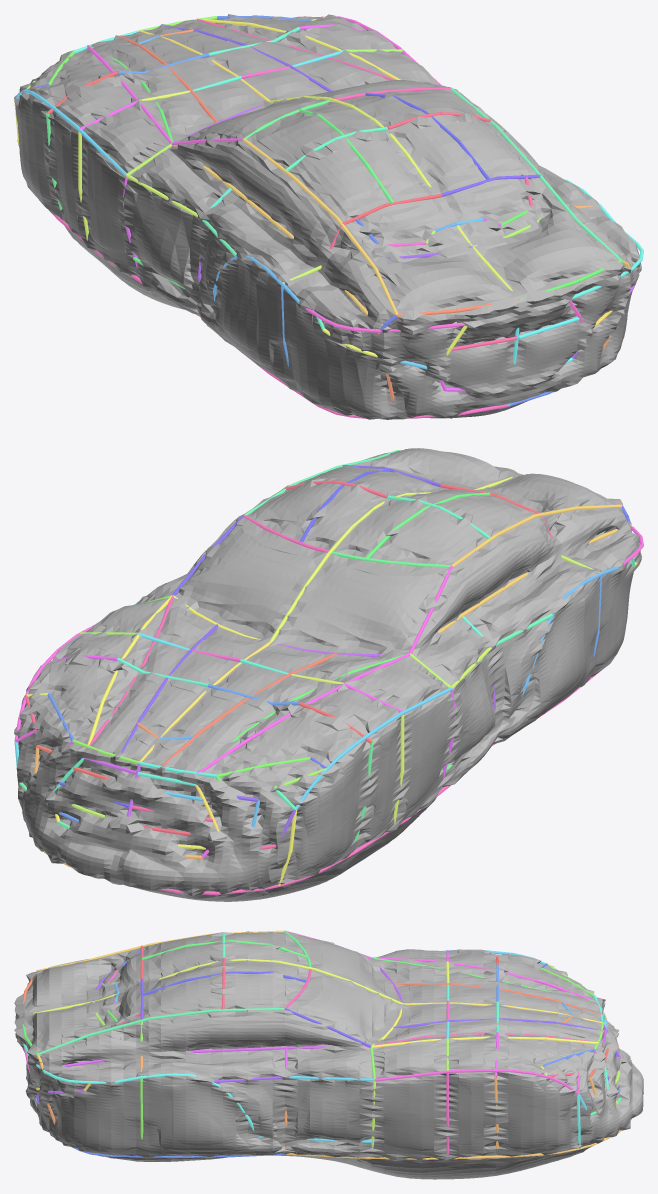
File: ils_car5.gltf
3 renders of one model, top to bottom at view 1: azimuth 30°, elevation 25°; view 2: azimuth 150°, elevation 25°; view 3: azimuth 270°, elevation 25°, orthographic. The views are drawn at different scales.
Bounding box in the file's own units: 0.4236 × 0.3187 × 0.9017.
